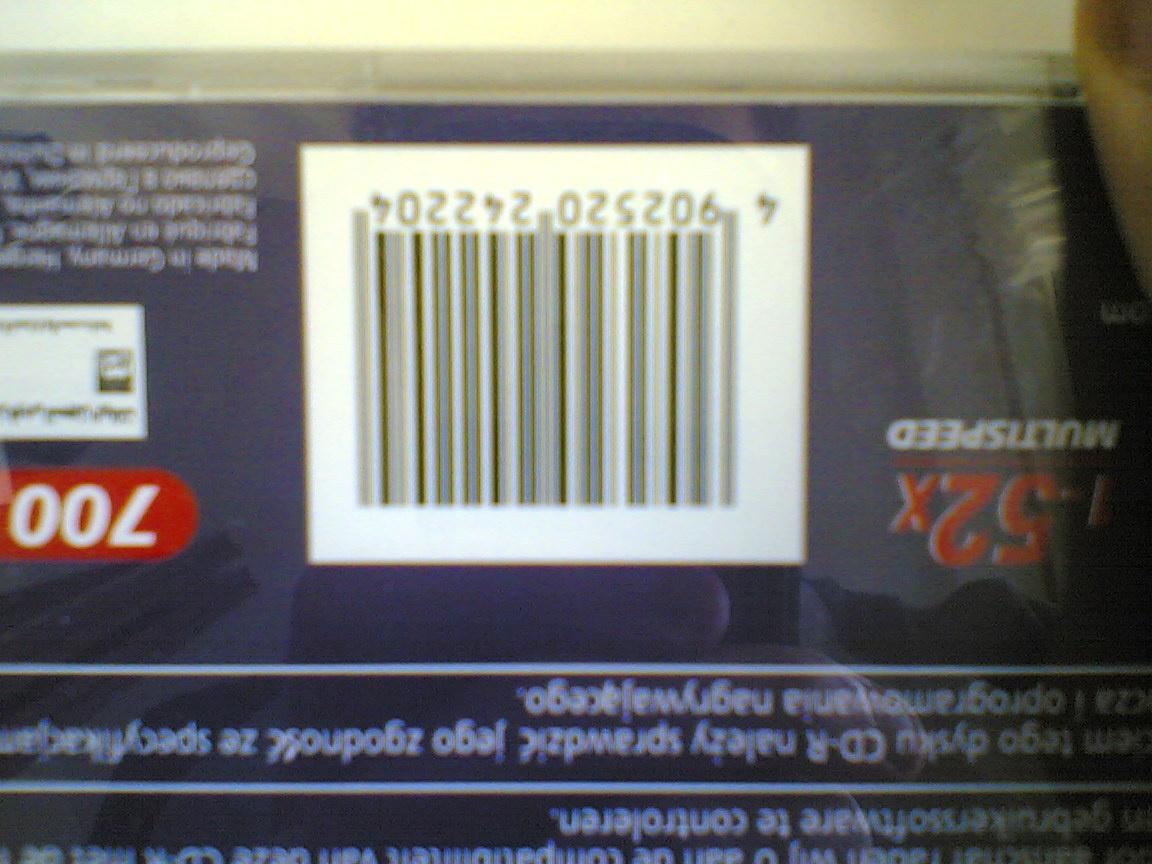Barcode: (337, 152, 799, 517)
